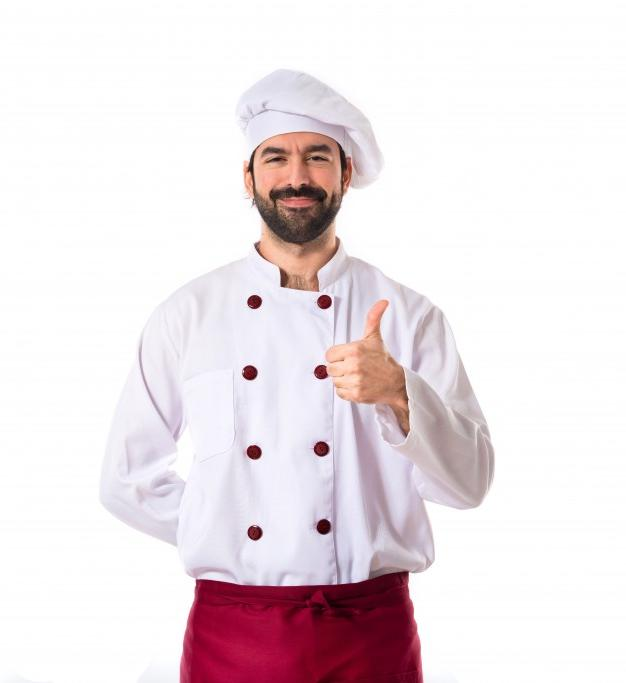thumbsup: (325, 299, 389, 404)
